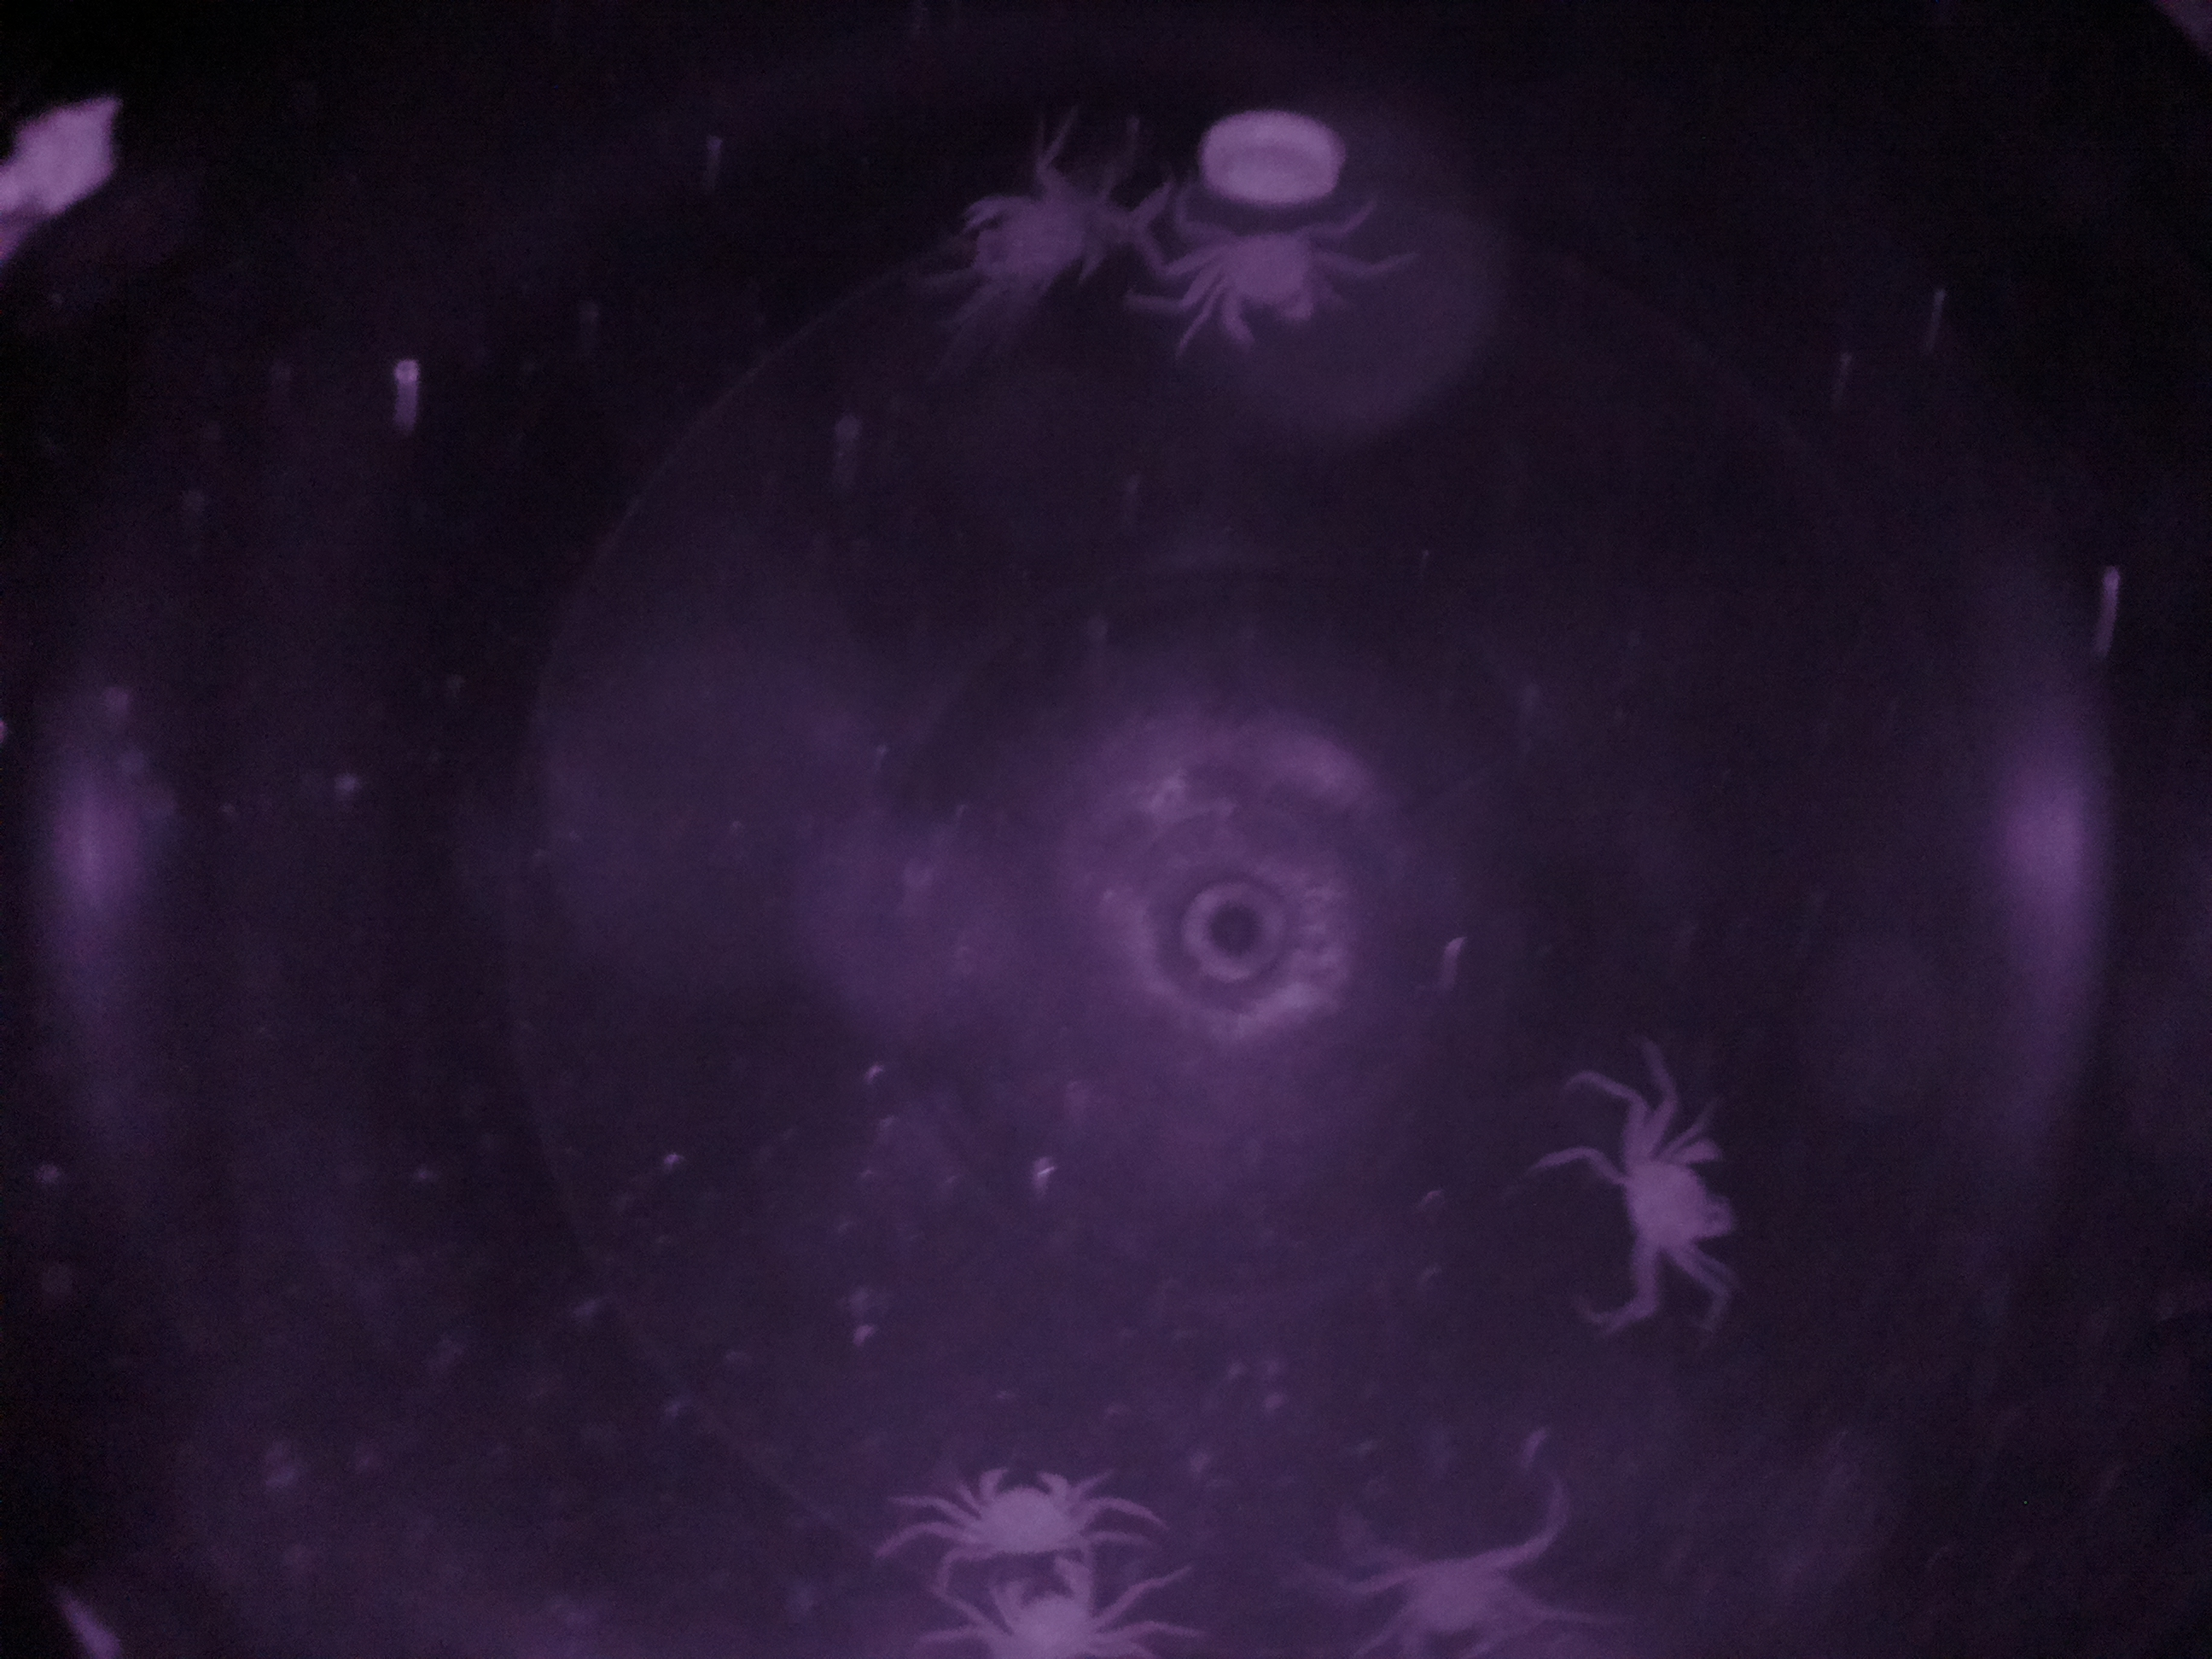Crab: (1179, 199, 1353, 362), (1595, 1108, 1747, 1295), (941, 1445, 1096, 1588)
